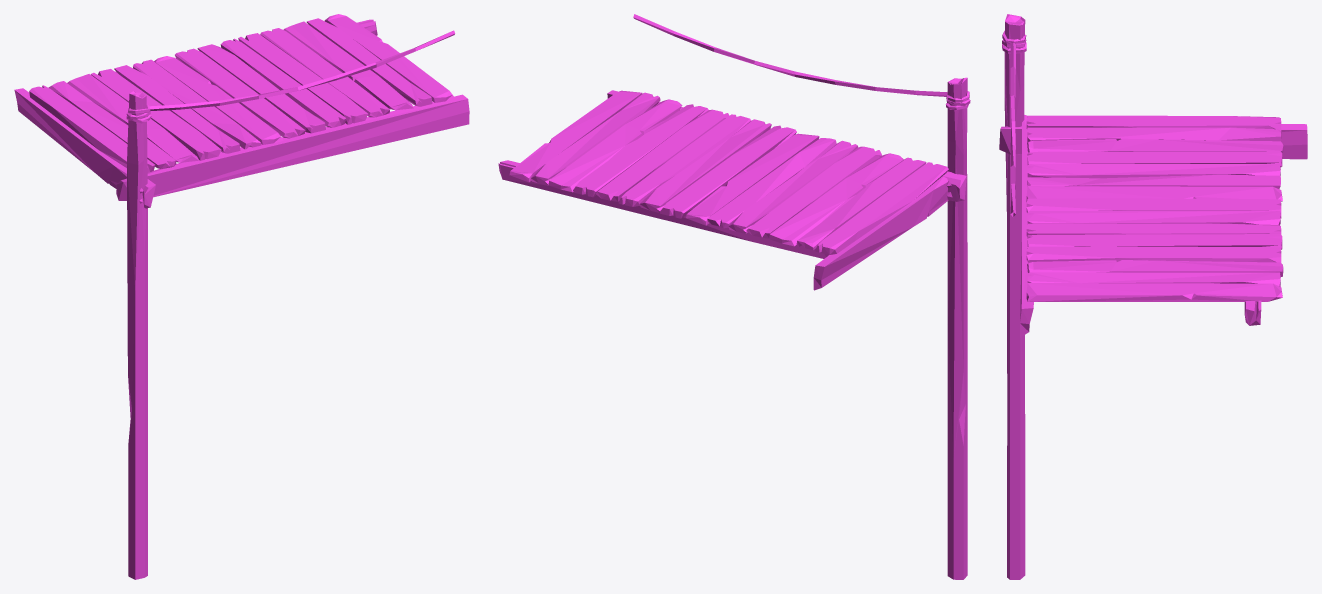
Rendered from SM_Pier_Platform_Rope_Corner_B_Fantasy.fbx.
The picture shows the model from 3 angles, left to right: view 1: azimuth 30°, elevation 25°; view 2: azimuth 150°, elevation 25°; view 3: azimuth 270°, elevation 25°; orthographic projection. The views are drawn at different scales.
Visible parts, largest first — view 1: SM_Pier_Platform_Rope_Corner_B_Fantasy; view 2: SM_Pier_Platform_Rope_Corner_B_Fantasy; view 3: SM_Pier_Platform_Rope_Corner_B_Fantasy.
Part boxes in pixels (<box>): SM_Pier_Platform_Rope_Corner_B_Fantasy: <box>14,14,469,579</box>; SM_Pier_Platform_Rope_Corner_B_Fantasy: <box>498,14,970,579</box>; SM_Pier_Platform_Rope_Corner_B_Fantasy: <box>999,14,1307,579</box>.
Size of the model in its own units: 5.55 by 7.25 by 3.63.
